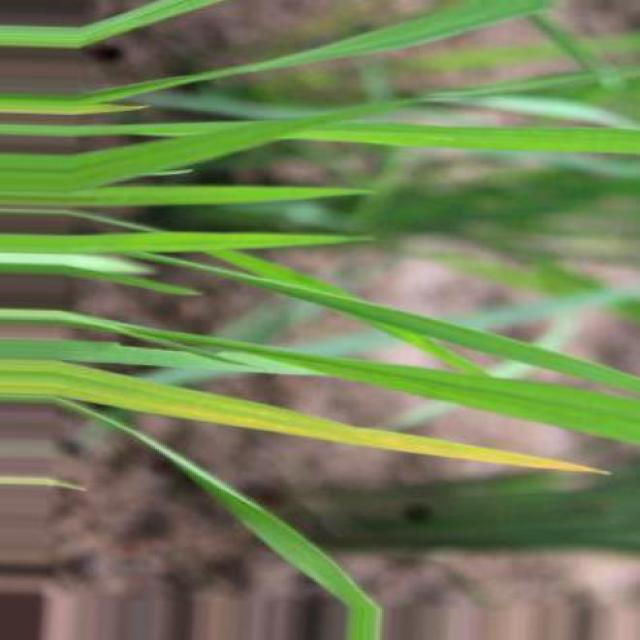Rice Tungro: (245, 403, 594, 472)
